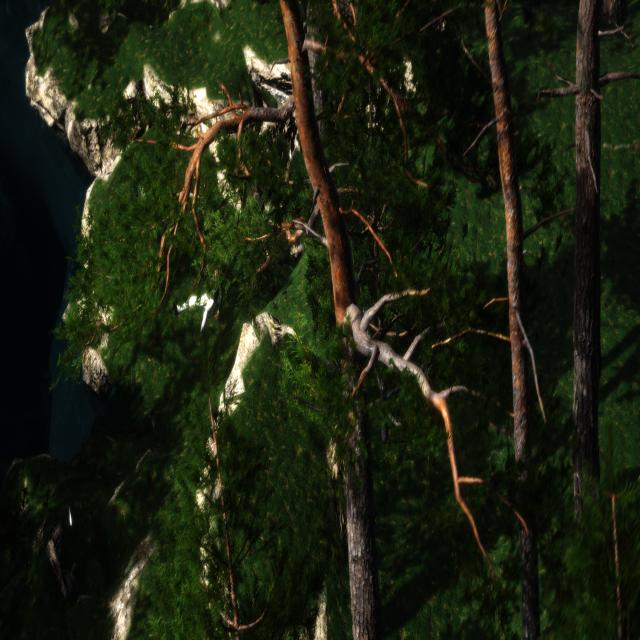Human: (172, 253, 227, 342)
